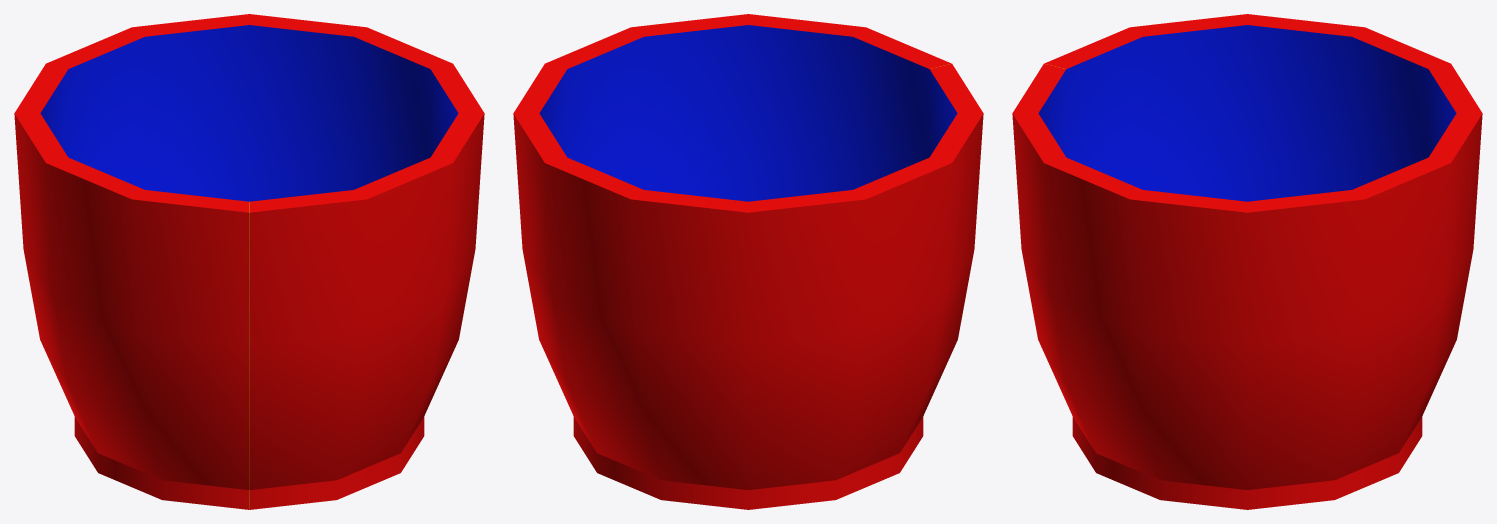
File: Pot.fbx
3 renders of one model, left to right at view 1: azimuth 30°, elevation 25°; view 2: azimuth 150°, elevation 25°; view 3: azimuth 270°, elevation 25°, orthographic.
Visible parts, largest first — view 1: SmokablePot; view 2: SmokablePot; view 3: SmokablePot.
Boxes of the visible parts, x1,y1,x2,y2 form: SmokablePot: (14, 14, 484, 509); SmokablePot: (513, 14, 983, 509); SmokablePot: (1012, 14, 1482, 509).
Bounding box in the file's own units: 21.52 × 16.3 × 21.52.
